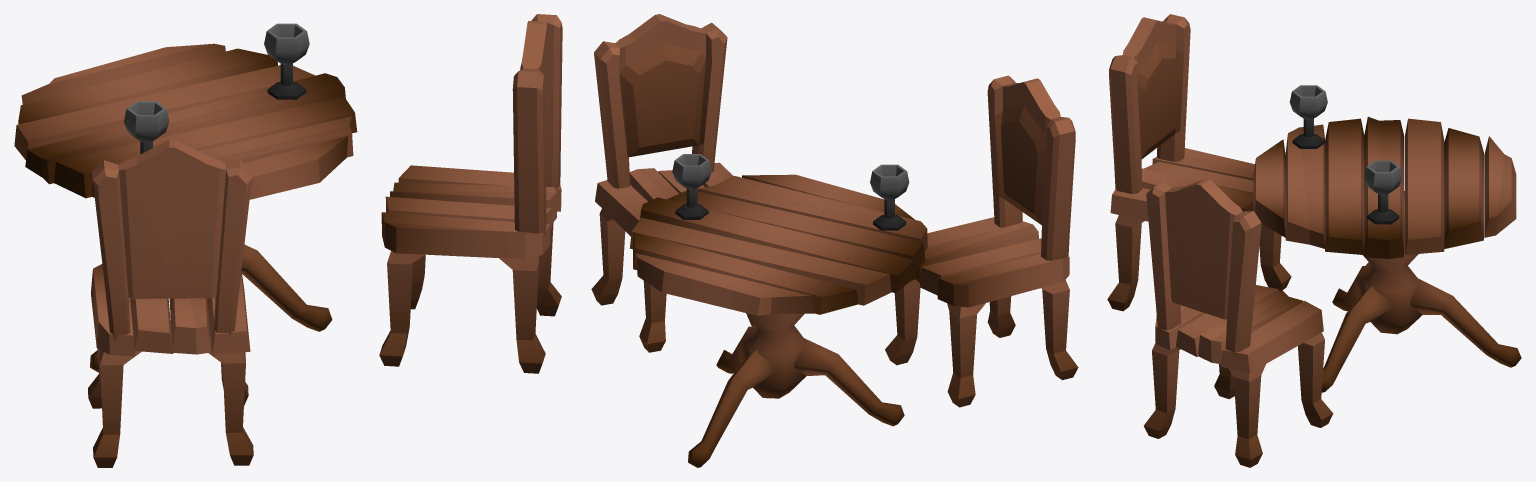
File: Chairs.fbx
3 views of the same model, side by side, from view 1: azimuth 30°, elevation 25°; view 2: azimuth 150°, elevation 25°; view 3: azimuth 270°, elevation 25° (orthographic). The views are drawn at different scales.
Visible parts, largest first — view 1: Cube.008, Cube.009, Cube.007, Cylinder.003, Cylinder.004; view 2: Cube.008, Cube.009, Cube.007, Cylinder.003, Cylinder.004; view 3: Cube.008, Cube.007, Cube.009, Cylinder.003, Cylinder.004.
Part boxes in pixels (left/top/right/bottom): Cube.008: left=14, top=43, right=357, bottom=372; Cube.009: left=88, top=139, right=253, bottom=467; Cube.007: left=379, top=14, right=562, bottom=373; Cylinder.003: left=264, top=23, right=309, bottom=99; Cylinder.004: left=124, top=101, right=169, bottom=154; Cube.008: left=629, top=174, right=927, bottom=467; Cube.009: left=885, top=75, right=1078, bottom=407; Cube.007: left=591, top=14, right=754, bottom=352; Cylinder.003: left=672, top=154, right=711, bottom=219; Cylinder.004: left=870, top=164, right=909, bottom=230; Cube.008: left=1253, top=117, right=1521, bottom=392; Cube.007: left=1144, top=178, right=1333, bottom=467; Cube.009: left=1107, top=14, right=1291, bottom=311; Cylinder.003: left=1364, top=160, right=1402, bottom=224; Cylinder.004: left=1289, top=85, right=1327, bottom=148.
Bounding box in the file's own units: 190 × 117 × 158.
Materials: 1 (1 with a texture image).
